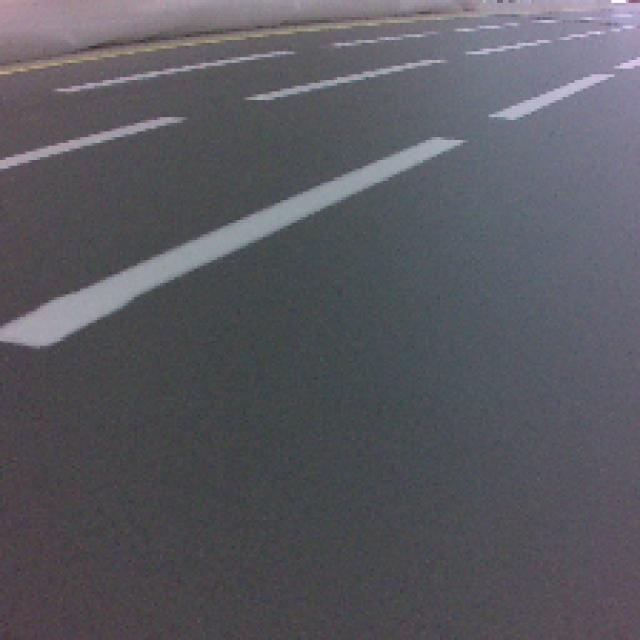Road: (7, 277, 638, 640)
